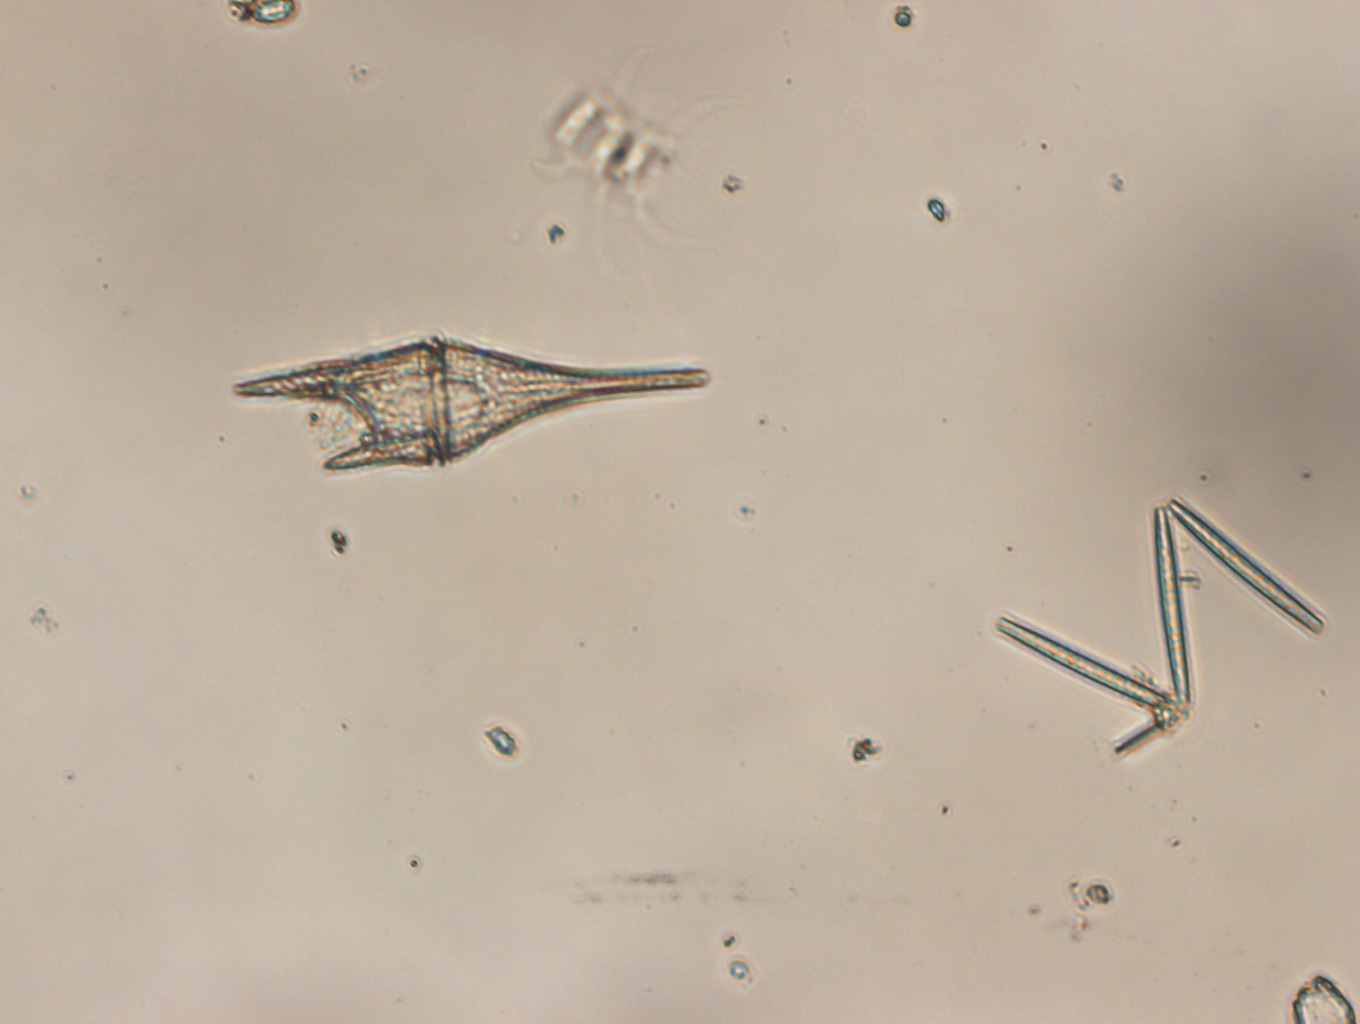ceratium furca: (232, 335, 713, 475)
thalassionema nitzschioides: (993, 497, 1326, 720)
